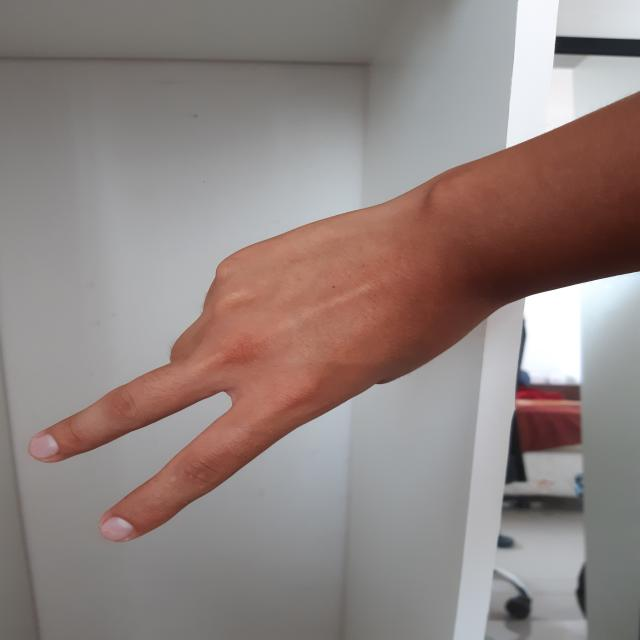EYE: (29, 174, 467, 552)
